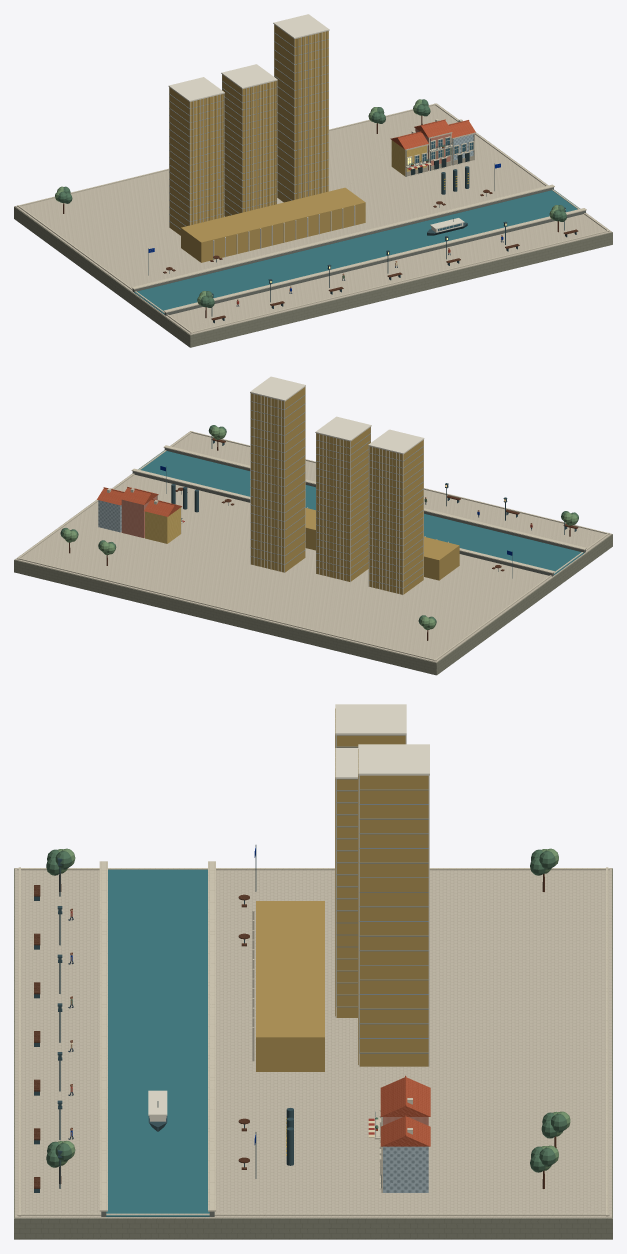
File: luxemburgo-reference.glb
The picture shows the model from 3 angles, top to bottom: view 1: azimuth 30°, elevation 25°; view 2: azimuth 150°, elevation 25°; view 3: azimuth 270°, elevation 25°; orthographic projection. The views are drawn at different scales.
Parts seen in each view (by area): view 1: luxemburgo_arquitetura_Calcada portuguesa, luxemburgo_arquitetura_Fachada dourada, luxemburgo_arquitetura_Douro agua, luxemburgo_arquitetura_Marfim pintado, luxemburgo_arquitetura_Corte de terreno, luxemburgo_arquitetura_Cantaria clara, luxemburgo_arquitetura_Aco polido, luxemburgo_arquitetura_Muralha de granito, luxemburgo_arquitetura_Telha ceramica, luxemburgo_arquitetura_Ferro pintado da ponte, luxemburgo_arquitetura_Folhagem, luxemburgo_arquitetura_Reboco ocre (+1 smaller); view 2: luxemburgo_arquitetura_Calcada portuguesa, luxemburgo_arquitetura_Fachada dourada, luxemburgo_arquitetura_Marfim pintado, luxemburgo_arquitetura_Corte de terreno, luxemburgo_arquitetura_Douro agua, luxemburgo_arquitetura_Cantaria clara, luxemburgo_arquitetura_Aco polido, luxemburgo_arquitetura_Muralha de granito, luxemburgo_arquitetura_Telha ceramica, luxemburgo_arquitetura_Reboco ocre, luxemburgo_arquitetura_Reboco rosa, luxemburgo_arquitetura_Folhagem clara (+2 smaller); view 3: luxemburgo_arquitetura_Calcada portuguesa, luxemburgo_arquitetura_Fachada dourada, luxemburgo_arquitetura_Douro agua, luxemburgo_arquitetura_Corte de terreno, luxemburgo_arquitetura_Cantaria clara, luxemburgo_arquitetura_Marfim pintado, luxemburgo_arquitetura_Aco polido, luxemburgo_arquitetura_Telha ceramica, luxemburgo_arquitetura_Folhagem, luxemburgo_arquitetura_Azulejo azul e branco, luxemburgo_arquitetura_Ferro pintado da ponte, luxemburgo_arquitetura_Madeira de rabelo.
Part boxes in pixels (x1=…): luxemburgo_arquitetura_Calcada portuguesa: x1=15, y1=104, x2=611, y2=334; luxemburgo_arquitetura_Fachada dourada: x1=169, y1=25, x2=365, y2=262; luxemburgo_arquitetura_Douro agua: x1=134, y1=190, x2=579, y2=314; luxemburgo_arquitetura_Marfim pintado: x1=168, y1=14, x2=472, y2=227; luxemburgo_arquitetura_Corte de terreno: x1=14, y1=206, x2=612, y2=347; luxemburgo_arquitetura_Cantaria clara: x1=17, y1=103, x2=609, y2=333; luxemburgo_arquitetura_Aco polido: x1=169, y1=32, x2=328, y2=229; luxemburgo_arquitetura_Muralha de granito: x1=132, y1=187, x2=585, y2=315; luxemburgo_arquitetura_Telha ceramica: x1=390, y1=119, x2=475, y2=166; luxemburgo_arquitetura_Ferro pintado da ponte: x1=148, y1=138, x2=576, y2=323; luxemburgo_arquitetura_Folhagem: x1=58, y1=99, x2=566, y2=307; luxemburgo_arquitetura_Reboco ocre: x1=391, y1=140, x2=426, y2=176; luxemburgo_arquitetura_Calcada portuguesa: x1=15, y1=431, x2=611, y2=662; luxemburgo_arquitetura_Fachada dourada: x1=251, y1=387, x2=459, y2=594; luxemburgo_arquitetura_Marfim pintado: x1=250, y1=376, x2=424, y2=594; luxemburgo_arquitetura_Corte de terreno: x1=14, y1=534, x2=612, y2=675; luxemburgo_arquitetura_Douro agua: x1=138, y1=450, x2=583, y2=574; luxemburgo_arquitetura_Cantaria clara: x1=17, y1=431, x2=609, y2=661; luxemburgo_arquitetura_Aco polido: x1=250, y1=393, x2=423, y2=588; luxemburgo_arquitetura_Muralha de granito: x1=132, y1=448, x2=585, y2=576; luxemburgo_arquitetura_Telha ceramica: x1=97, y1=487, x2=181, y2=516; luxemburgo_arquitetura_Reboco ocre: x1=145, y1=507, x2=180, y2=543; luxemburgo_arquitetura_Reboco rosa: x1=121, y1=496, x2=157, y2=537; luxemburgo_arquitetura_Folhagem clara: x1=62, y1=426, x2=578, y2=629; luxemburgo_arquitetura_Calcada portuguesa: x1=15, y1=868, x2=611, y2=1218; luxemburgo_arquitetura_Fachada dourada: x1=256, y1=708, x2=428, y2=1071; luxemburgo_arquitetura_Douro agua: x1=106, y1=869, x2=209, y2=1216; luxemburgo_arquitetura_Corte de terreno: x1=14, y1=868, x2=612, y2=1239; luxemburgo_arquitetura_Cantaria clara: x1=17, y1=861, x2=609, y2=1216; luxemburgo_arquitetura_Marfim pintado: x1=335, y1=704, x2=429, y2=1066; luxemburgo_arquitetura_Aco polido: x1=336, y1=735, x2=428, y2=1053; luxemburgo_arquitetura_Telha ceramica: x1=375, y1=1075, x2=430, y2=1146; luxemburgo_arquitetura_Folhagem: x1=46, y1=849, x2=567, y2=1172; luxemburgo_arquitetura_Azulejo azul e branco: x1=383, y1=1146, x2=428, y2=1192; luxemburgo_arquitetura_Ferro pintado da ponte: x1=34, y1=845, x2=380, y2=1192; luxemburgo_arquitetura_Madeira de rabelo: x1=34, y1=874, x2=556, y2=1188.
Bounding box in the file's own units: 72 × 30.19 × 52.
26 materials, 10 textured.
